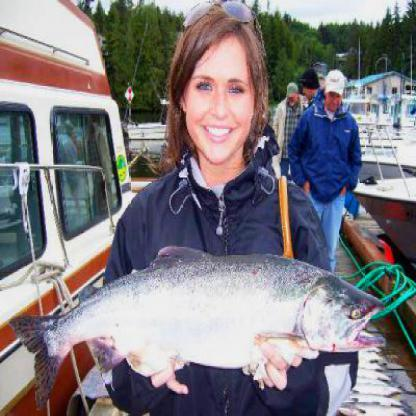fish: (15, 245, 387, 396)
